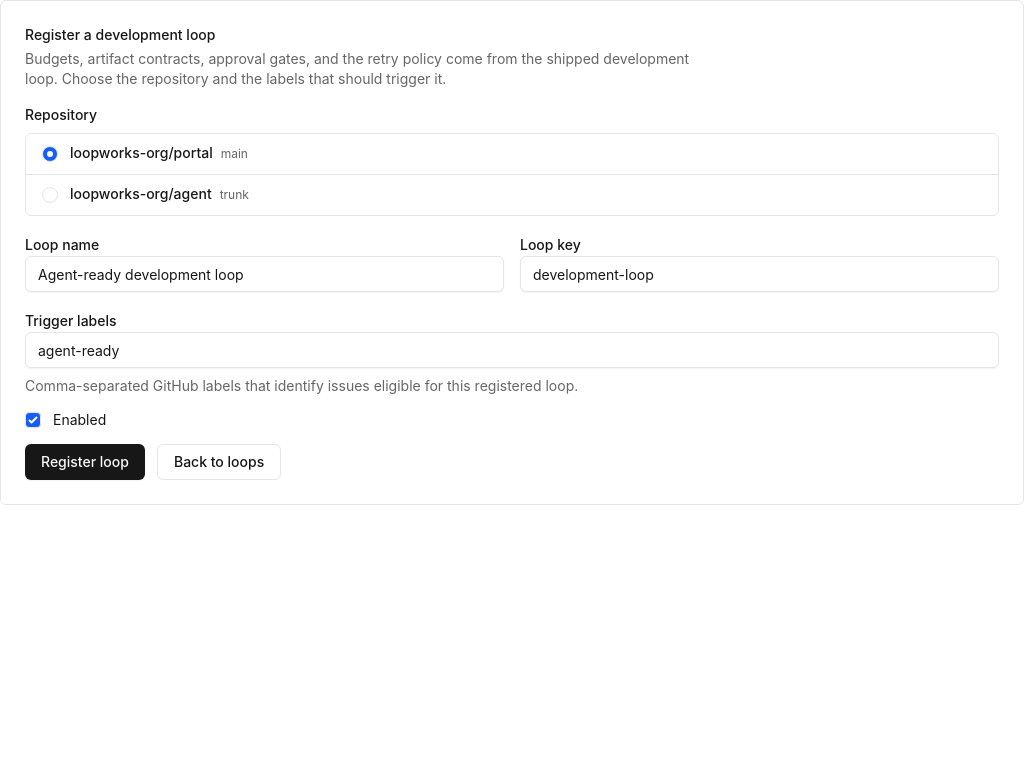
Test case: loop registration form › explains a duplicate key without claiming the loop was registered
Click the button "Register loop" at (85, 462), box top-left (25, 444), bottom-right (145, 480)
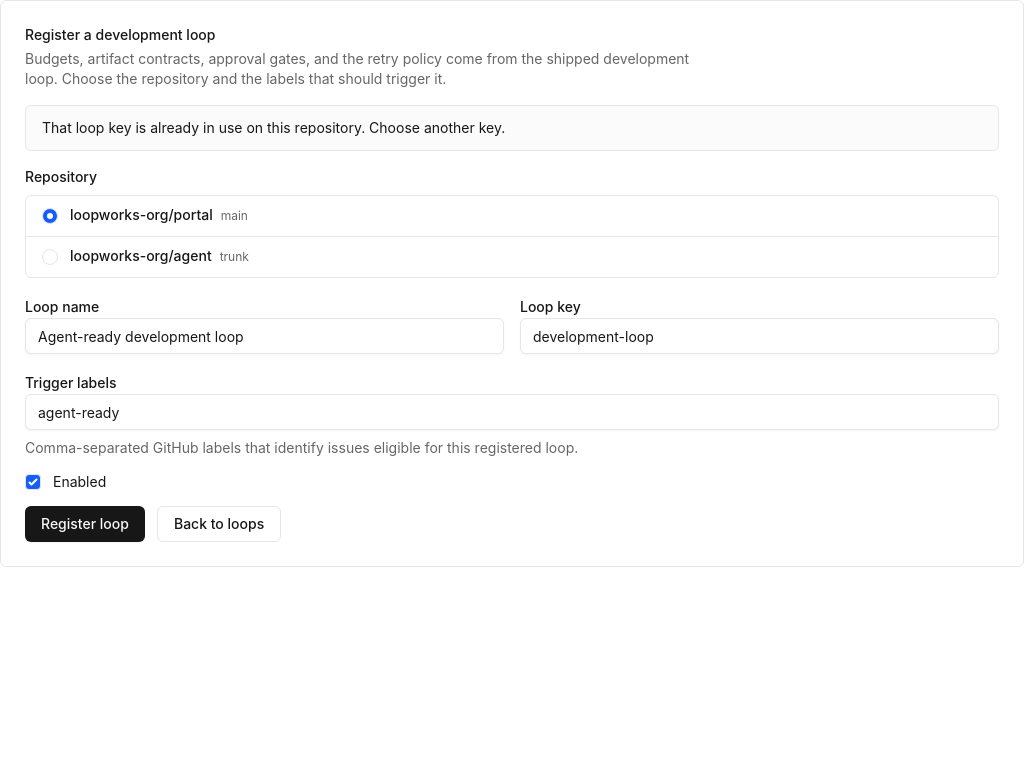
Expected: the message shows "already", top-left (42, 119), bottom-right (505, 136)
